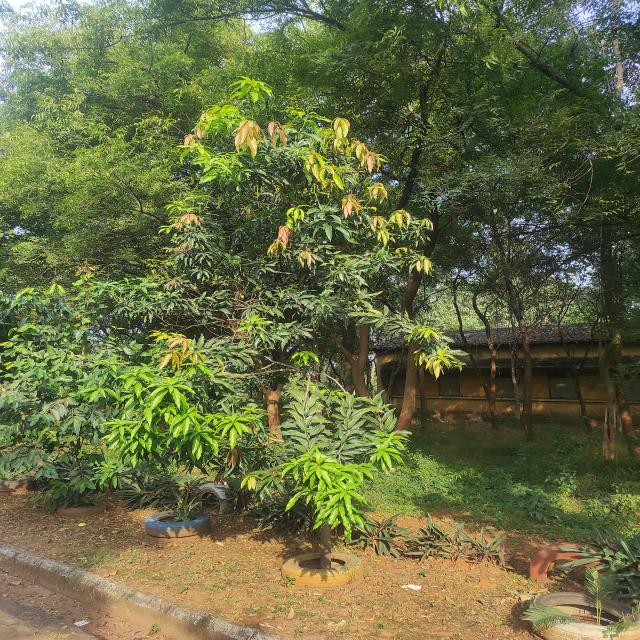Mango Tree: (206, 93, 403, 475)
Neem Tree: (20, 50, 162, 284)
